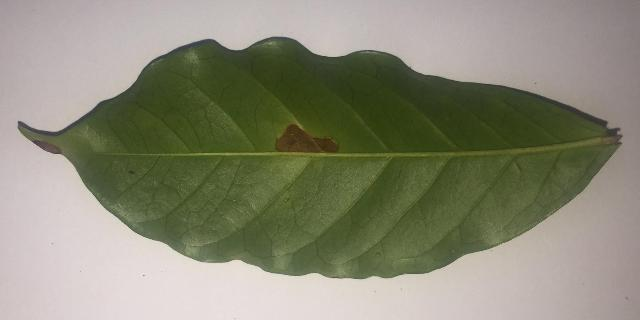cercospora: (275, 122, 338, 152), (31, 140, 61, 154)
